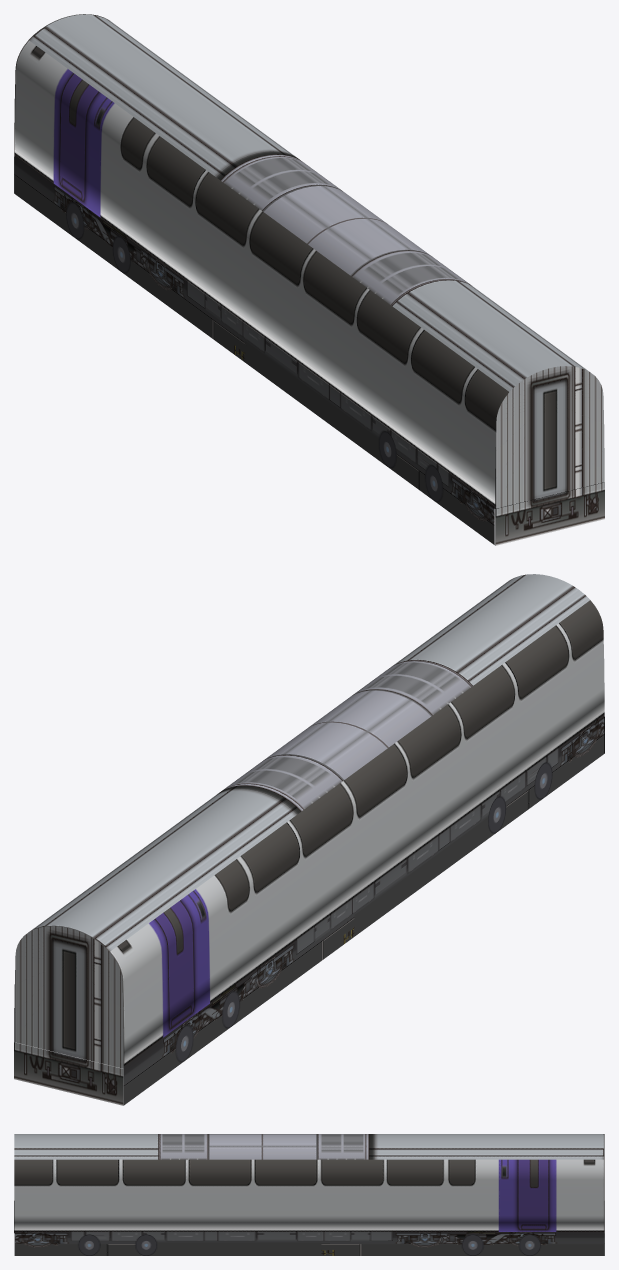
Rendered from car4.glb.
3 renders of one model, top to bottom at view 1: azimuth 30°, elevation 25°; view 2: azimuth 150°, elevation 25°; view 3: azimuth 270°, elevation 25°, orthographic. The views are drawn at different scales.
Parts seen in each view (by area): view 1: jr_hokkaido_kiha261_5000_lavender; view 2: jr_hokkaido_kiha261_5000_lavender; view 3: jr_hokkaido_kiha261_5000_lavender.
Part boxes in pixels (bbox=[...]): jr_hokkaido_kiha261_5000_lavender: bbox=[14, 14, 604, 545]; jr_hokkaido_kiha261_5000_lavender: bbox=[14, 574, 604, 1105]; jr_hokkaido_kiha261_5000_lavender: bbox=[14, 1134, 604, 1255].
Size of the model in its own units: 2.8 by 4.01 by 21.33.
6 materials, 5 textured.
